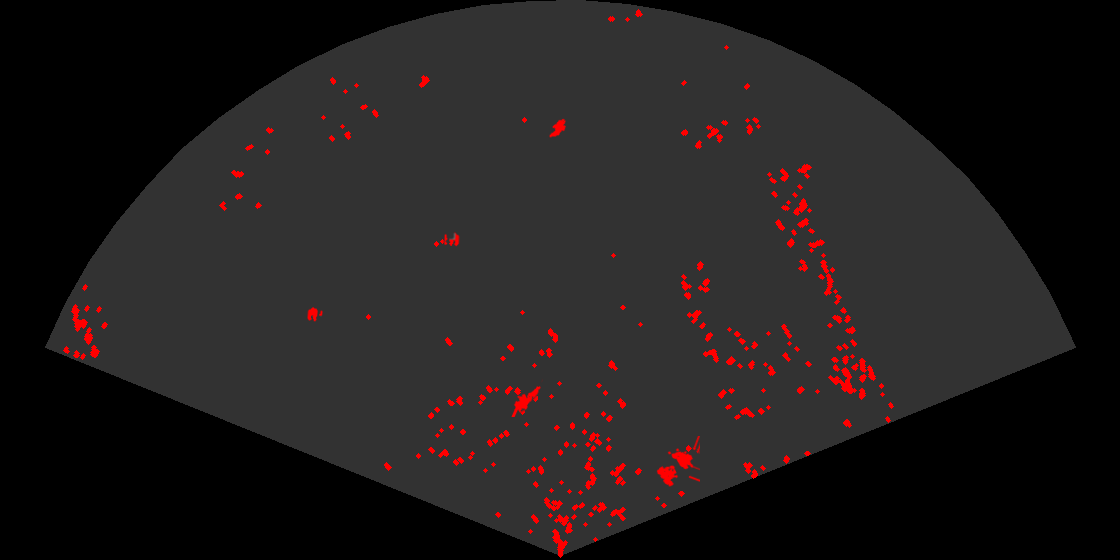AUV: (548, 117, 568, 139)
ball: (443, 231, 461, 248), (306, 306, 324, 323)
cage: (655, 436, 700, 488)
frogman: (510, 378, 543, 417)
